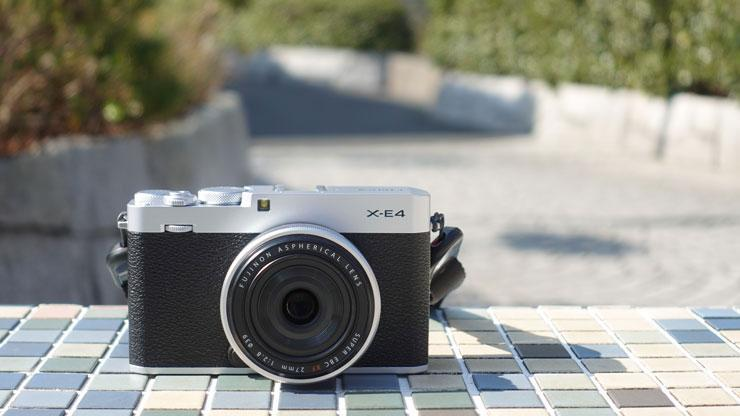degital-camera: (106, 182, 462, 387)
